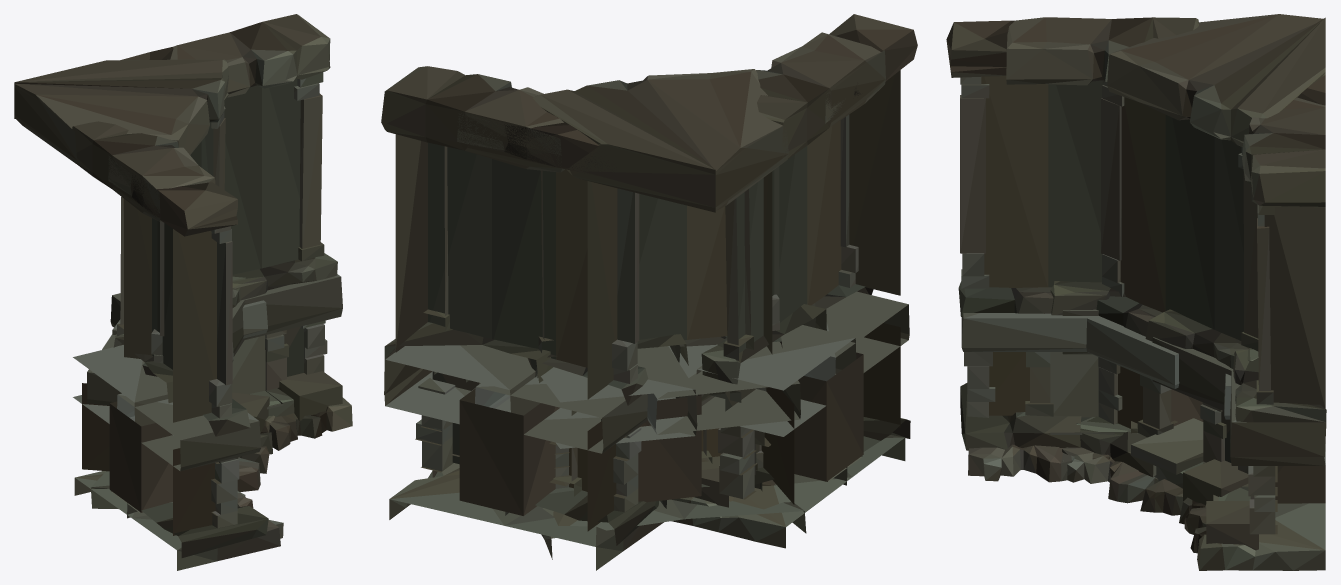
The model's file is wall_B_corner.fbx.
3 renders of one model, left to right at view 1: azimuth 30°, elevation 25°; view 2: azimuth 150°, elevation 25°; view 3: azimuth 270°, elevation 25°, orthographic. The views are drawn at different scales.
Parts seen in each view (by area): view 1: wall_B_corner; view 2: wall_B_corner; view 3: wall_B_corner.
Boxes of the visible parts, bbox=[...] form: wall_B_corner: bbox=[14, 14, 352, 570]; wall_B_corner: bbox=[381, 14, 917, 570]; wall_B_corner: bbox=[946, 14, 1326, 570].
Bounding box in the file's own units: 5.23 × 6.49 × 5.48.
